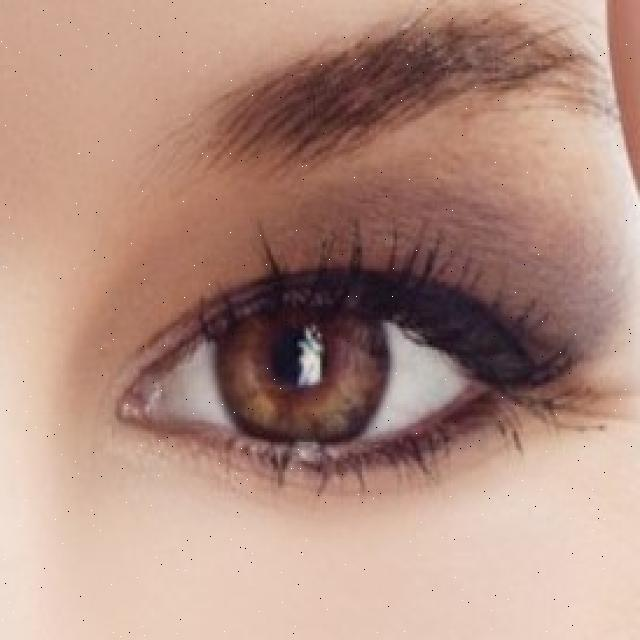Normal: (214, 260, 393, 448)
